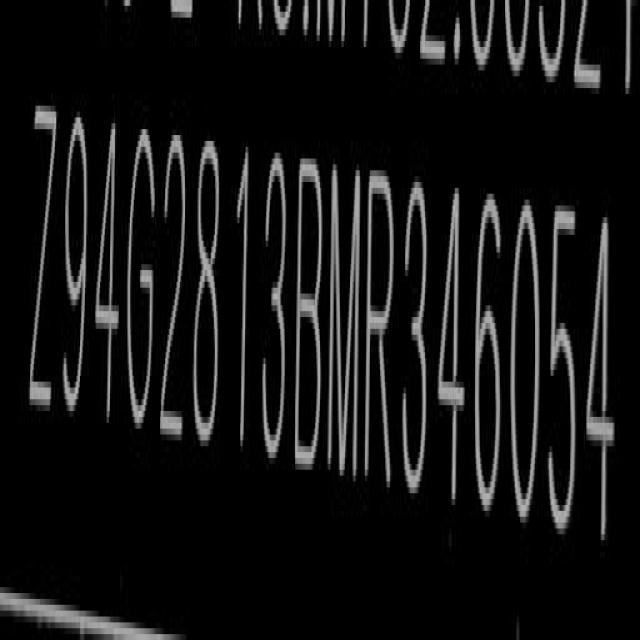0: (510, 189, 541, 524)
1: (230, 140, 250, 466)
2: (159, 126, 186, 448)
3: (398, 172, 433, 502), (261, 152, 289, 461)
4: (583, 206, 617, 544), (90, 111, 123, 420), (437, 178, 465, 502)
5: (547, 209, 578, 535)
6: (473, 187, 504, 524)
8: (194, 126, 222, 455)
9: (56, 96, 88, 424)
B: (292, 161, 326, 463)
G: (126, 120, 156, 424)
M: (326, 167, 362, 478)
R: (361, 174, 395, 489)
Z: (30, 100, 56, 431)
